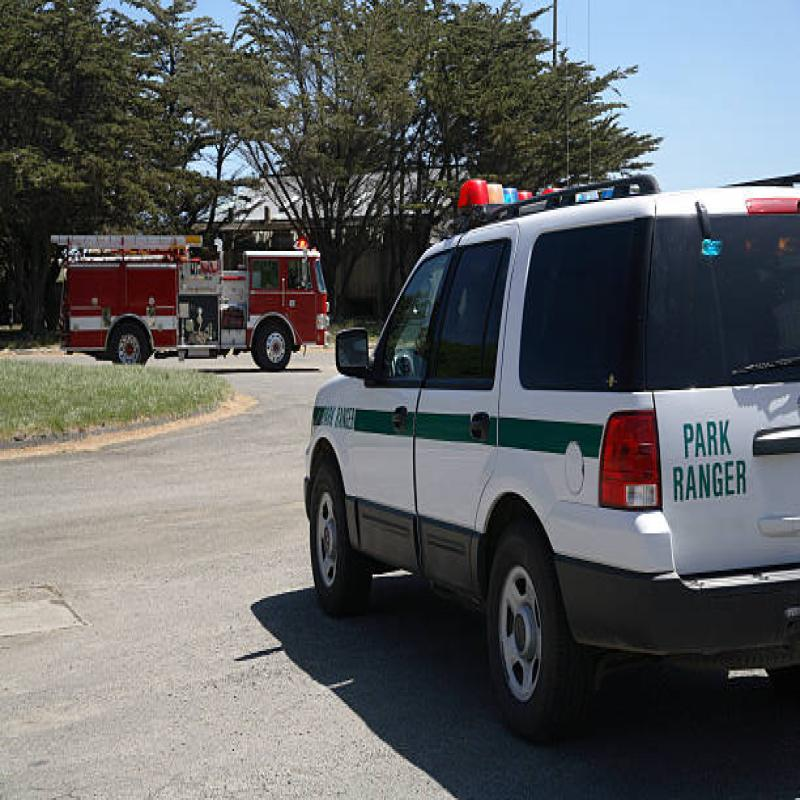AmbulanceSiren: (440, 182, 540, 229)
